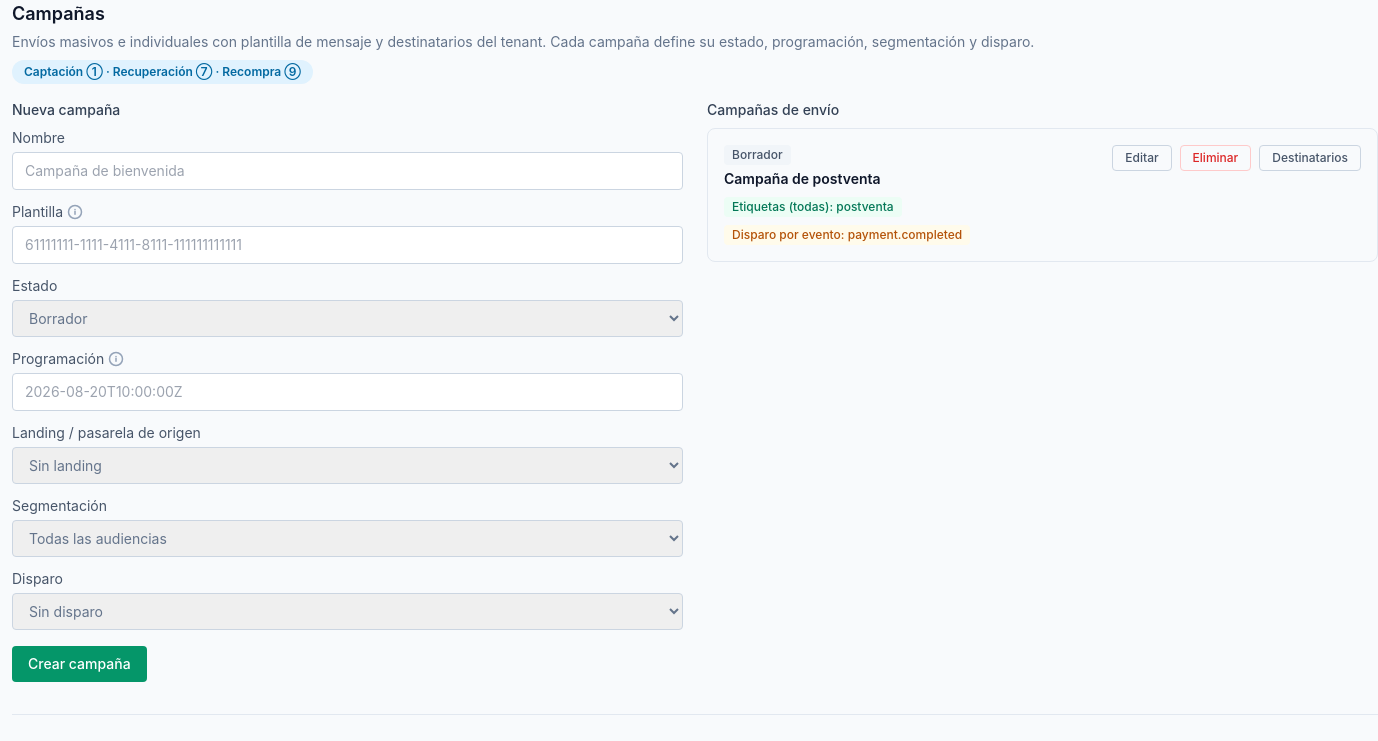
Test: CampaignsSection › edita una campaña C-2 precargando segmentación y disparo
Check: the heading "Campaña de postventa" is shown, box [724,170,881,187]
What coordinates should you click on to do the following:
click the button "Editar"
I would click on:
 (1142, 158)
Its box is [1112,145,1172,171].
(page scrolled)
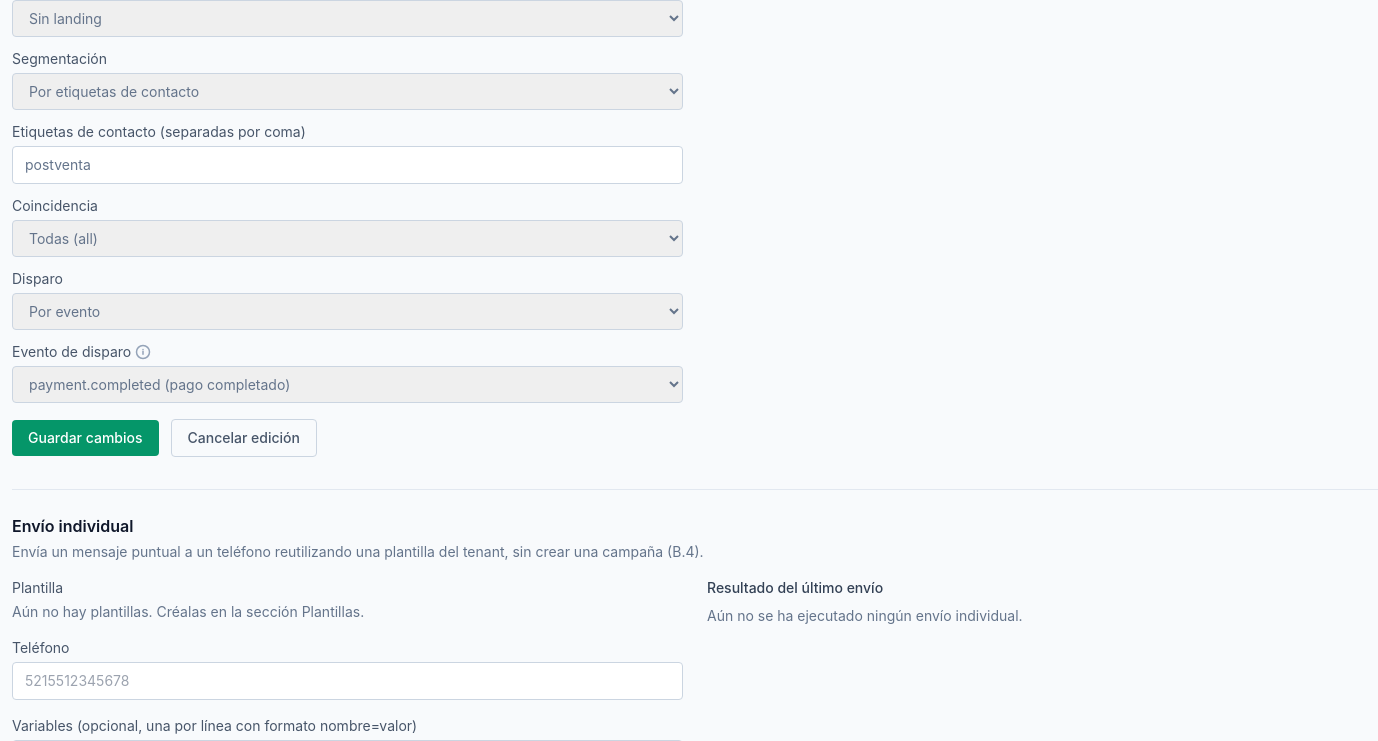
Check: the dropdown labelled "Segmentación" shows "Por etiquetas de contacto", box [12,73,683,110]
Check: the field labelled "Etiquetas de contacto (separadas por coma)" holds "postventa", box [12,146,683,184]
Check: the dropdown labelled "Coincidencia" shows "Todas (all)", box [12,220,683,257]
